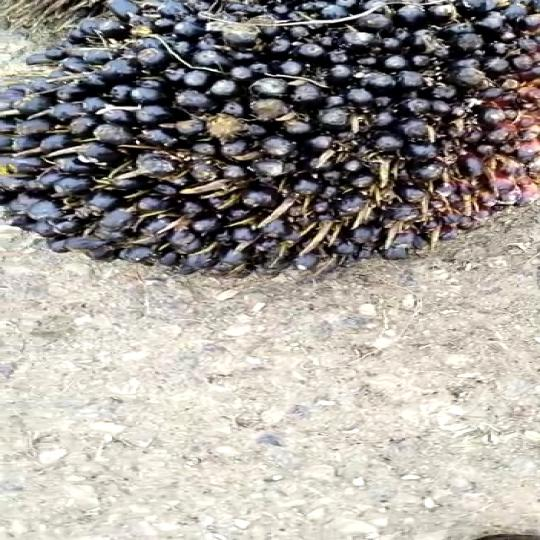mentah: (0, 0, 540, 287)
